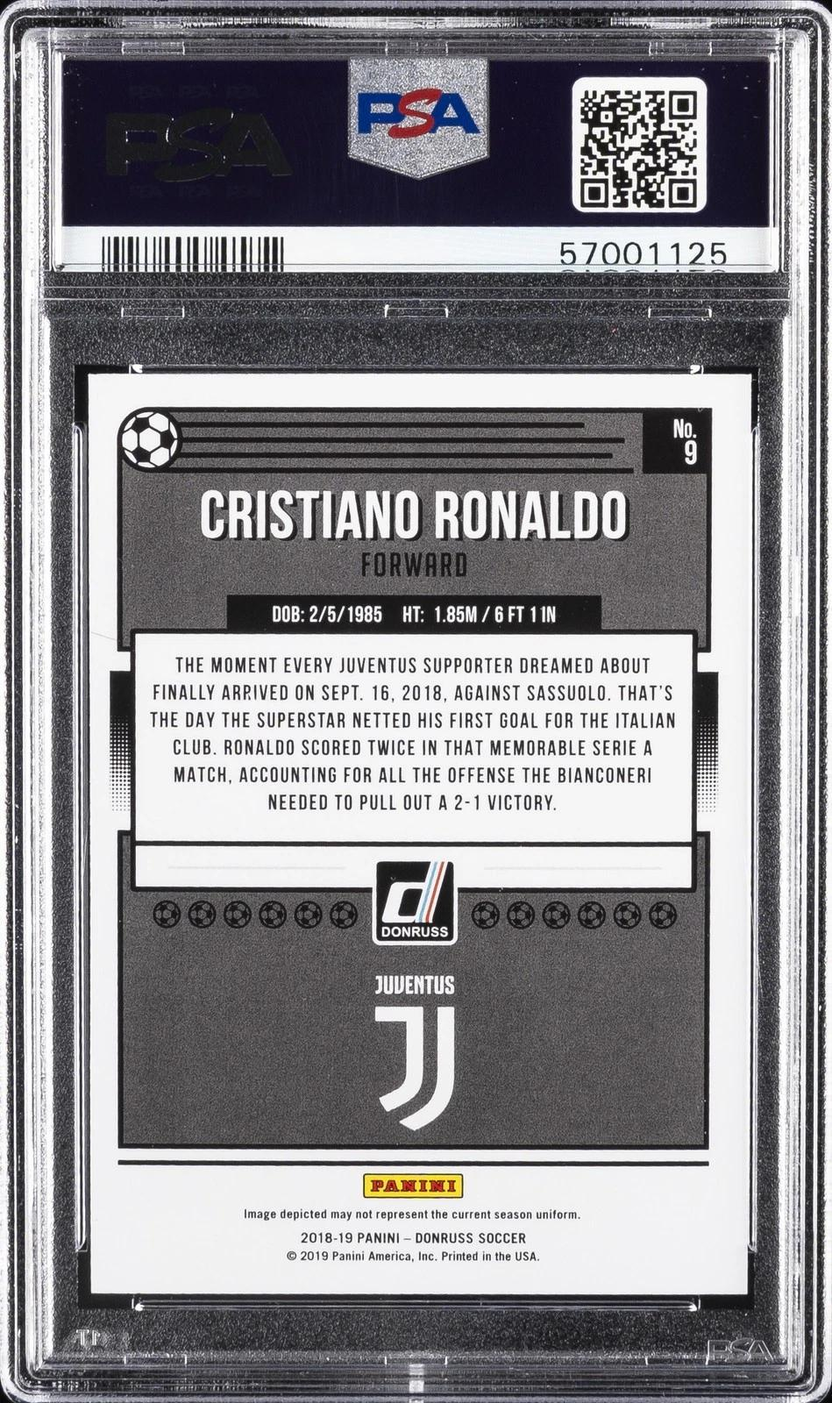card-2UtV: (87, 372, 752, 1295)
